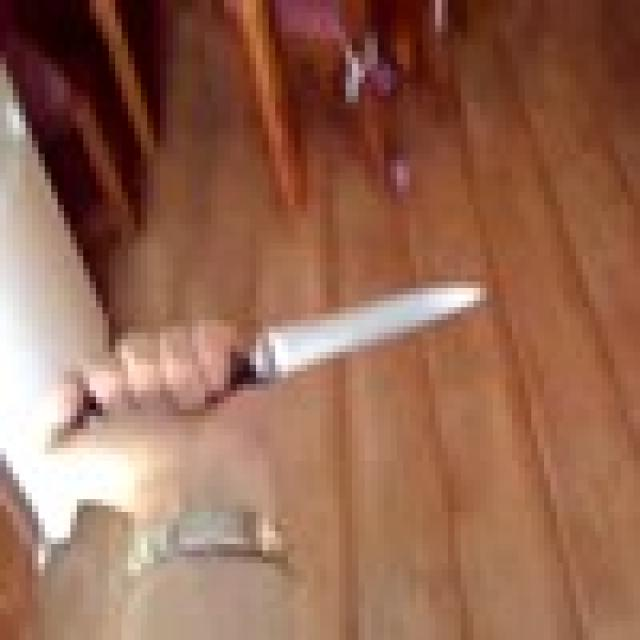Knife: (128, 282, 493, 416)
